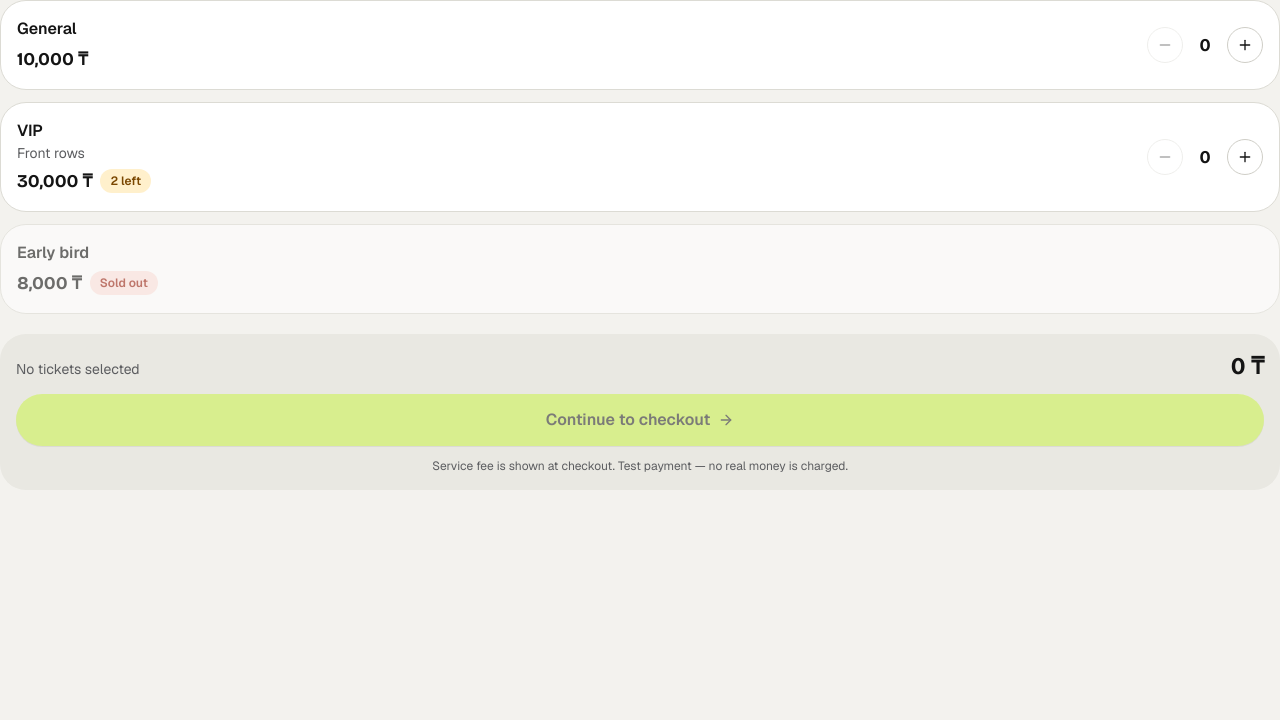
it: <TicketSelector /> › does not allow more than the remaining inventory
This screenshot has width=1280, height=720.
Click the button named "Add one VIP ticket" at [1245, 157], box [1227,139,1263,175]
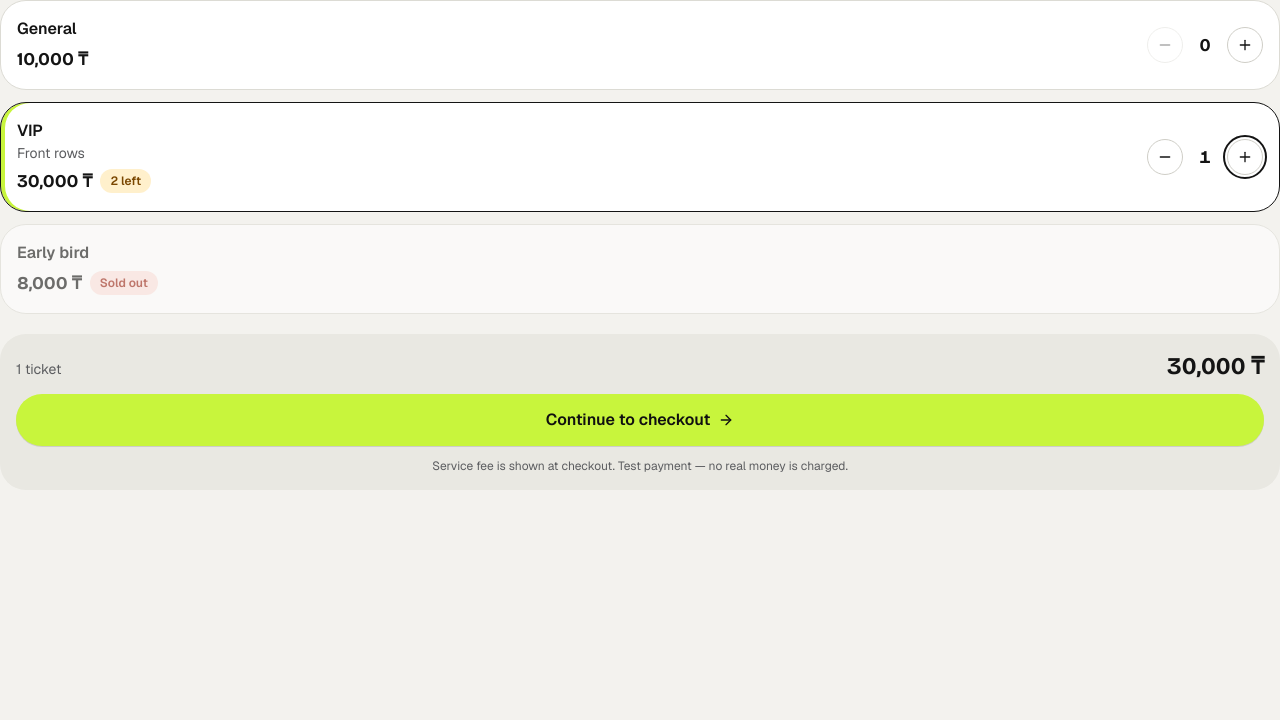
Click the button named "Add one VIP ticket" at [1245, 157], box [1227,139,1263,175]
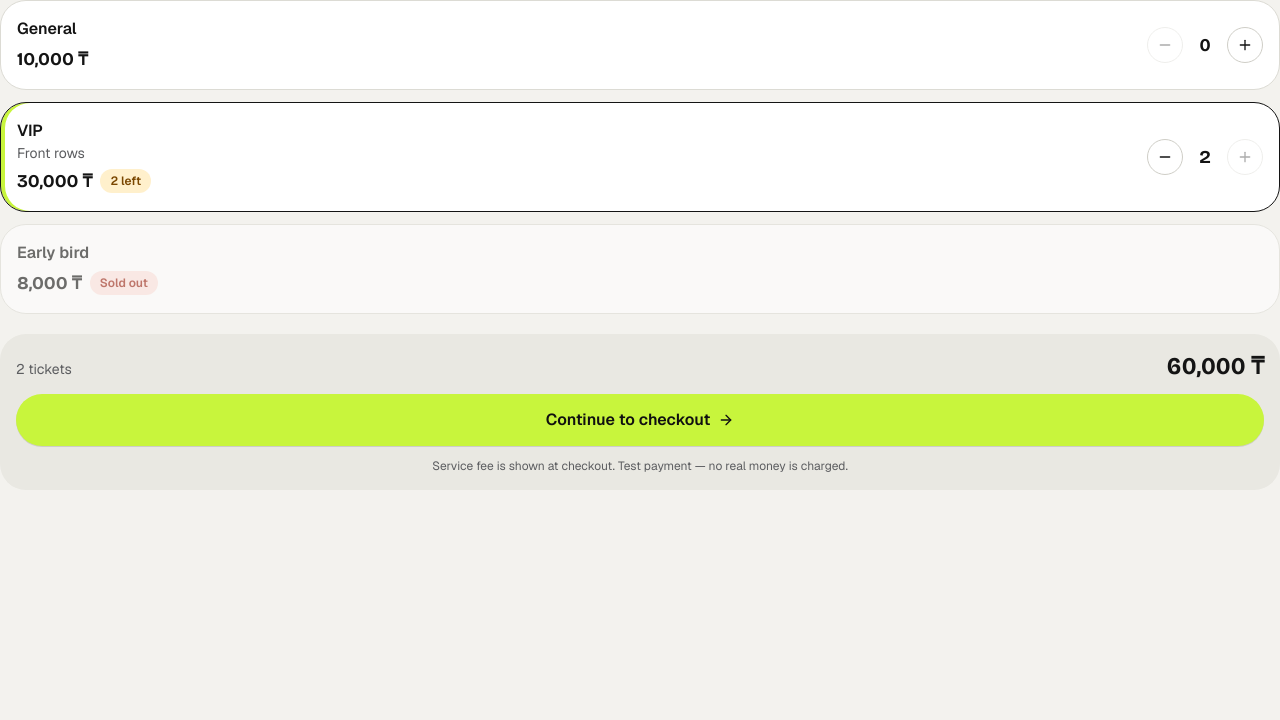
Result: the button named "Add one VIP ticket" is disabled at [1227,139,1263,175]
Result: the text named "VIP: 2 selected" reads "2" at [1199,146,1211,168]
